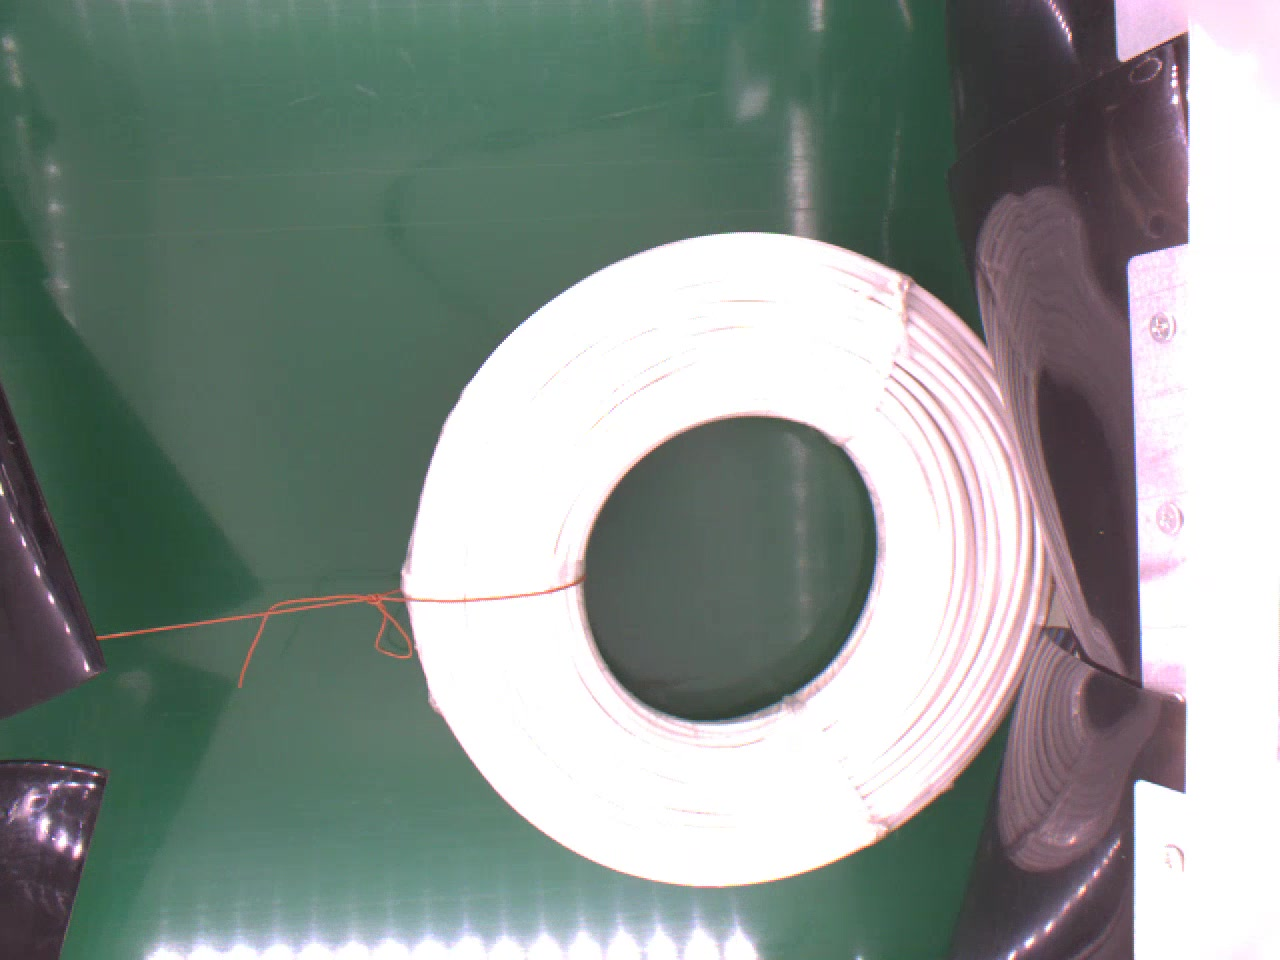white: (385, 221, 1040, 890)
